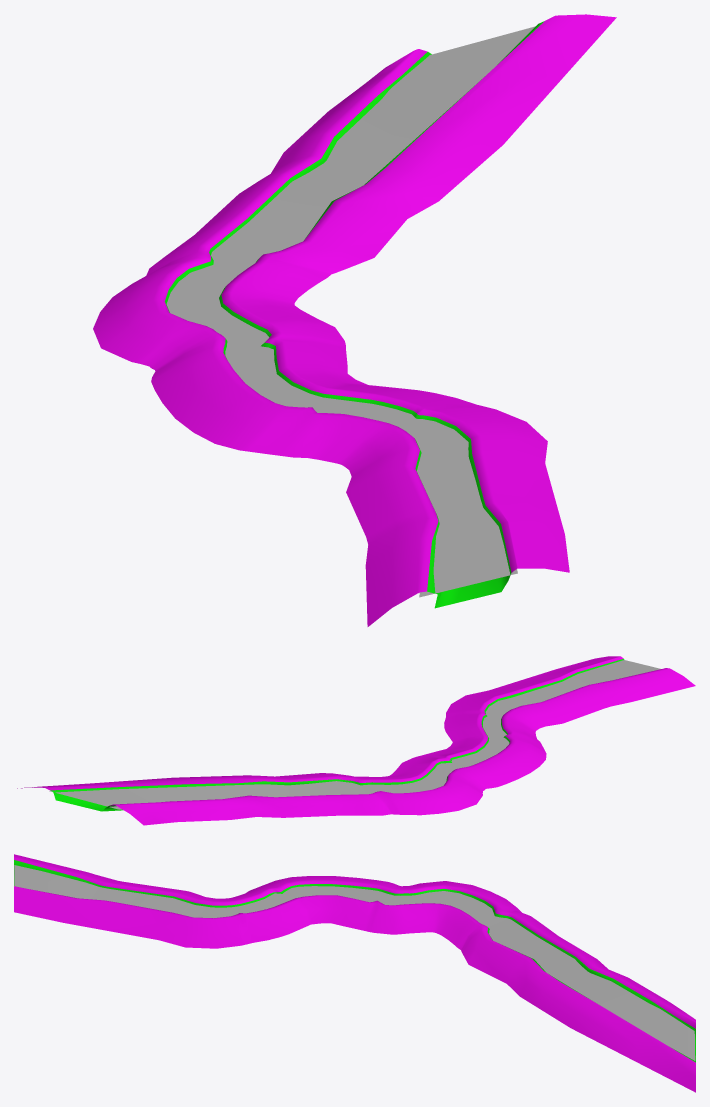
Rendered from river_mat.fbx.
3 renders of one model, top to bottom at view 1: azimuth 30°, elevation 25°; view 2: azimuth 150°, elevation 25°; view 3: azimuth 270°, elevation 25°, orthographic. The views are drawn at different scales.
Visible parts, largest first — view 1: River_bank, water; view 2: River_bank, water; view 3: River_bank, water.
Part boxes in pixels (x1,y1,x2,y2): River_bank: [93, 14, 616, 626]; water: [166, 26, 535, 597]; River_bank: [17, 656, 695, 825]; water: [49, 660, 660, 809]; River_bank: [14, 854, 695, 1092]; water: [14, 865, 695, 1060].
Bounding box in the file's own units: 104365 × 3393 × 124875.
